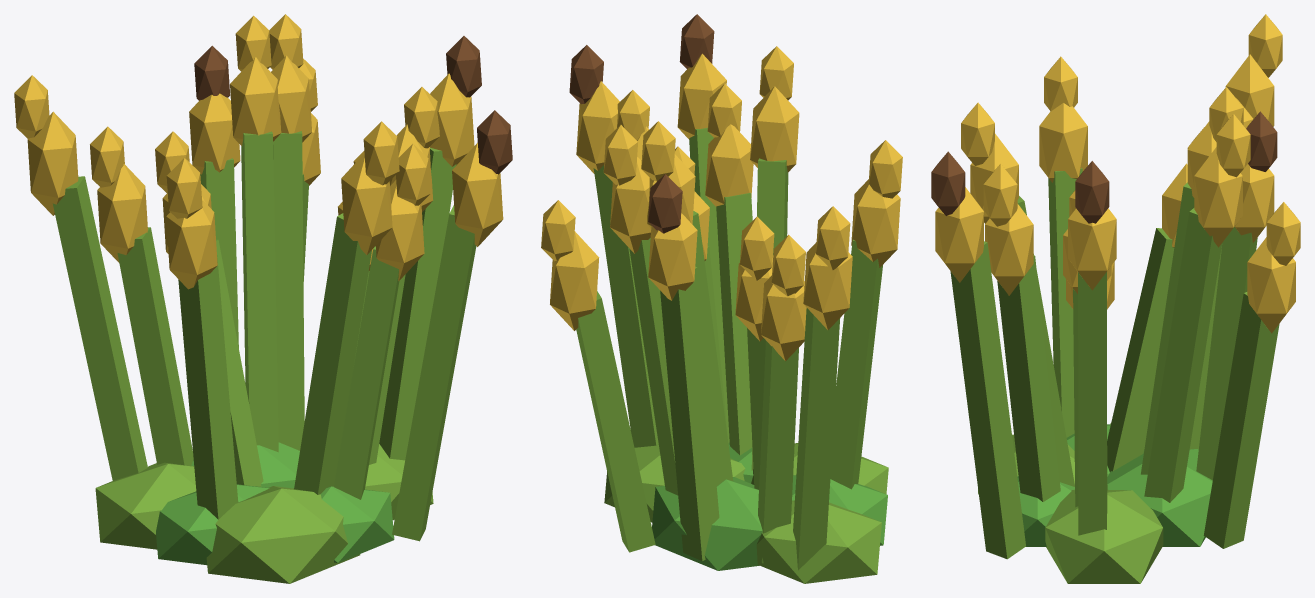
Rendered from wild_grain.glb.
The picture shows the model from 3 angles, left to right: view 1: azimuth 30°, elevation 25°; view 2: azimuth 150°, elevation 25°; view 3: azimuth 270°, elevation 25°; orthographic projection. The views are drawn at different scales.
Visible parts, largest first — view 1: crop, leaf_light, head.026, head.010, head.002, head.008, head.022, head.006, head.020, head, head.014, head.012 (+14 smaller); view 2: crop, leaf_light, head.004, head.008, head.006, head.020, head.014, head.026, head.002, head, head.012, head.010 (+16 smaller); view 3: crop, leaf_light, head.012, head.004, head.010, head.006, head.014, head, head.020, head.026, head.011, head.005 (+12 smaller).
Part boxes in pixels (bbox=[...]): crop: bbox=[52, 131, 476, 583]; leaf_light: bbox=[156, 442, 394, 565]; head.026: bbox=[27, 111, 78, 215]; head.010: bbox=[452, 143, 503, 246]; head.002: bbox=[97, 164, 147, 262]; head.008: bbox=[341, 153, 392, 254]; head.022: bbox=[230, 57, 281, 145]; head.006: bbox=[166, 199, 217, 289]; head.020: bbox=[189, 93, 240, 174]; head: bbox=[430, 73, 474, 166]; head.014: bbox=[375, 180, 424, 280]; head.012: bbox=[271, 55, 311, 142]; crop: bbox=[576, 127, 888, 583]; leaf_light: bbox=[652, 442, 887, 570]; head.004: bbox=[550, 231, 599, 330]; head.008: bbox=[750, 86, 799, 172]; head.006: bbox=[851, 179, 900, 267]; head.020: bbox=[648, 213, 697, 300]; head.014: bbox=[705, 124, 753, 206]; head.026: bbox=[803, 242, 852, 329]; head.002: bbox=[761, 275, 806, 361]; head: bbox=[576, 81, 619, 173]; head.012: bbox=[610, 157, 651, 253]; head.010: bbox=[677, 53, 726, 139]; crop: bbox=[950, 168, 1279, 583]; leaf_light: bbox=[1017, 424, 1212, 546]; head.012: bbox=[1194, 147, 1242, 247]; head.004: bbox=[1247, 237, 1295, 333]; head.010: bbox=[935, 187, 983, 282]; head.006: bbox=[1039, 103, 1087, 182]; head.014: bbox=[985, 204, 1033, 295]; head: bbox=[1068, 208, 1116, 290]; head.020: bbox=[1234, 164, 1274, 242]; head.026: bbox=[1225, 54, 1274, 126]; head.011: bbox=[931, 151, 965, 215]; head.005: bbox=[1266, 202, 1300, 265].
Bounding box in the file's own units: 0.6753 × 0.8258 × 0.5819.
